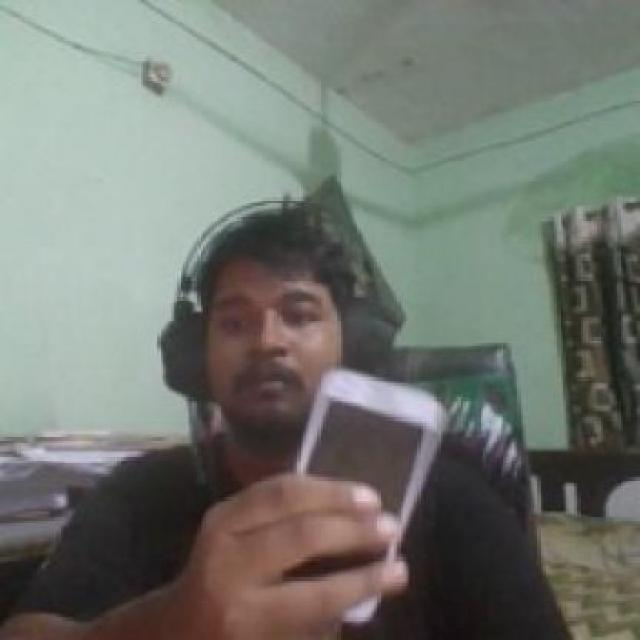Phone: (290, 363, 448, 630)
